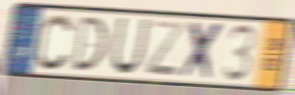3: (222, 23, 257, 83)
C: (34, 12, 76, 73)
D: (70, 15, 109, 73)
U: (109, 16, 152, 77)
X: (178, 19, 227, 83)
Z: (143, 18, 187, 78)
